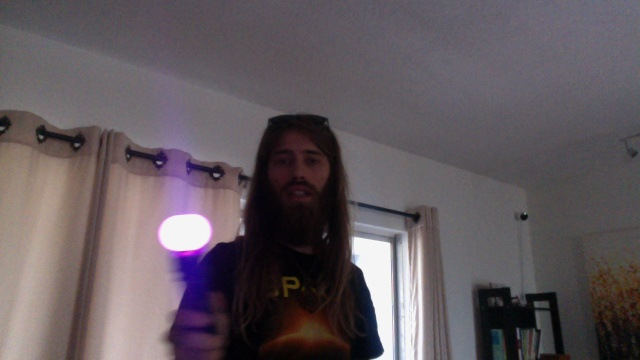wand: (159, 215, 212, 250)
